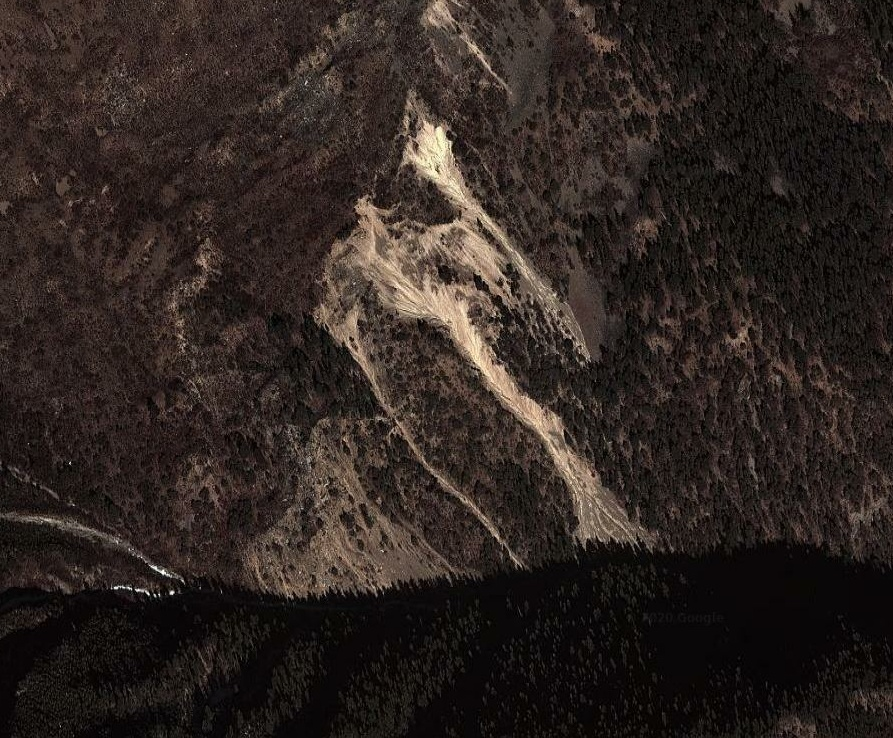slope: (315, 89, 667, 577)
